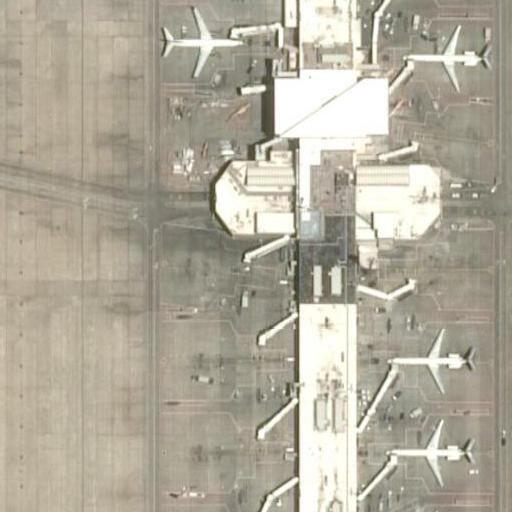Aircraft: (154, 2, 241, 80), (384, 423, 478, 486), (401, 26, 495, 88), (387, 329, 480, 389)
